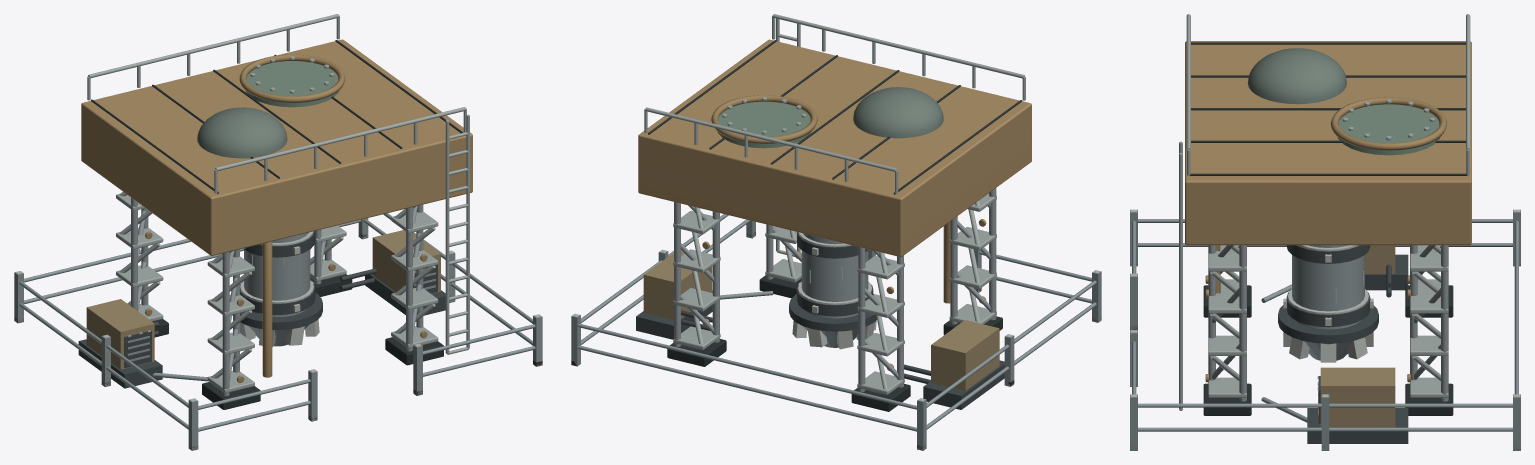
3 views of the same model, side by side, from view 1: azimuth 30°, elevation 25°; view 2: azimuth 150°, elevation 25°; view 3: azimuth 270°, elevation 25° (orthographic). The views are drawn at different scales.
Visible parts, largest first — view 1: Raised mine deck, Mine deck dome, Mine rear hatch, Mine correction | continuous bore pipe, Mine correction | weathered coolant cabinet, Mine correction | weathered coolant cabinet.001, Drilling hatch clamp, Drilling hydraulic feed, Safety handrail.001, Safety handrail, Service ladder rail, Mine correction | cutting crown shoulder (+25 smaller); view 2: Raised mine deck, Mine deck dome, Mine correction | weathered coolant cabinet, Mine correction | continuous bore pipe, Mine rear hatch, Mine correction | weathered coolant cabinet.001, Mine correction | low safety fence rail.005, Mine correction | low safety fence rail.004, Drilling hatch clamp, Mine correction | cutting crown shoulder, Mine correction | coolant and power skid, Safety handrail (+30 smaller); view 3: Raised mine deck, Mine deck dome, Mine correction | weathered coolant cabinet.001, Mine correction | continuous bore pipe, Mine rear hatch, Drilling hatch clamp, Mine correction | low safety fence rail.002, Mine correction | low safety fence rail.003, Mine correction | coolant and power skid.001, Mine correction | cutting crown shoulder, Mine trestle leg.007, Mine trestle leg.005 (+34 smaller).
Part boxes in pixels (x1,y1,x2,y2): Raised mine deck: [81, 39, 472, 255]; Mine deck dome: [197, 107, 287, 158]; Mine rear hatch: [245, 61, 338, 107]; Mine correction | continuous bore pipe: [244, 232, 310, 317]; Mine correction | weathered coolant cabinet: [86, 299, 154, 369]; Mine correction | weathered coolant cabinet.001: [372, 230, 440, 293]; Drilling hatch clamp: [239, 54, 345, 102]; Drilling hydraulic feed: [262, 241, 272, 377]; Safety handrail.001: [215, 107, 466, 171]; Safety handrail: [88, 14, 338, 78]; Service ladder rail: [445, 120, 449, 353]; Mine correction | cutting crown shoulder: [232, 293, 322, 330]; Raised mine deck: [638, 39, 1031, 256]; Mine deck dome: [853, 87, 943, 138]; Mine correction | weathered coolant cabinet: [931, 320, 999, 390]; Mine correction | continuous bore pipe: [801, 233, 868, 318]; Mine rear hatch: [717, 101, 811, 148]; Mine correction | weathered coolant cabinet.001: [643, 250, 712, 319]; Mine correction | low safety fence rail.005: [578, 323, 916, 409]; Mine correction | low safety fence rail.004: [578, 345, 916, 431]; Drilling hatch clamp: [711, 95, 817, 143]; Mine correction | cutting crown shoulder: [789, 294, 876, 331]; Mine correction | coolant and power skid: [923, 360, 1004, 409]; Safety handrail: [645, 107, 897, 171]; Raised mine deck: [1185, 41, 1471, 245]; Mine deck dome: [1247, 48, 1346, 104]; Mine correction | weathered coolant cabinet.001: [1320, 367, 1395, 427]; Mine correction | continuous bore pipe: [1292, 245, 1364, 329]; Mine rear hatch: [1337, 104, 1440, 155]; Drilling hatch clamp: [1330, 97, 1446, 150]; Mine correction | low safety fence rail.002: [1138, 427, 1512, 431]; Mine correction | low safety fence rail.003: [1138, 403, 1512, 407]; Mine correction | coolant and power skid.001: [1307, 408, 1408, 443]; Mine correction | cutting crown shoulder: [1278, 305, 1378, 343]; Mine trestle leg.007: [1441, 245, 1448, 401]; Mine trestle leg.005: [1239, 245, 1246, 401].
Bounding box in the file's own units: 2.87 × 1.96 × 2.52.
